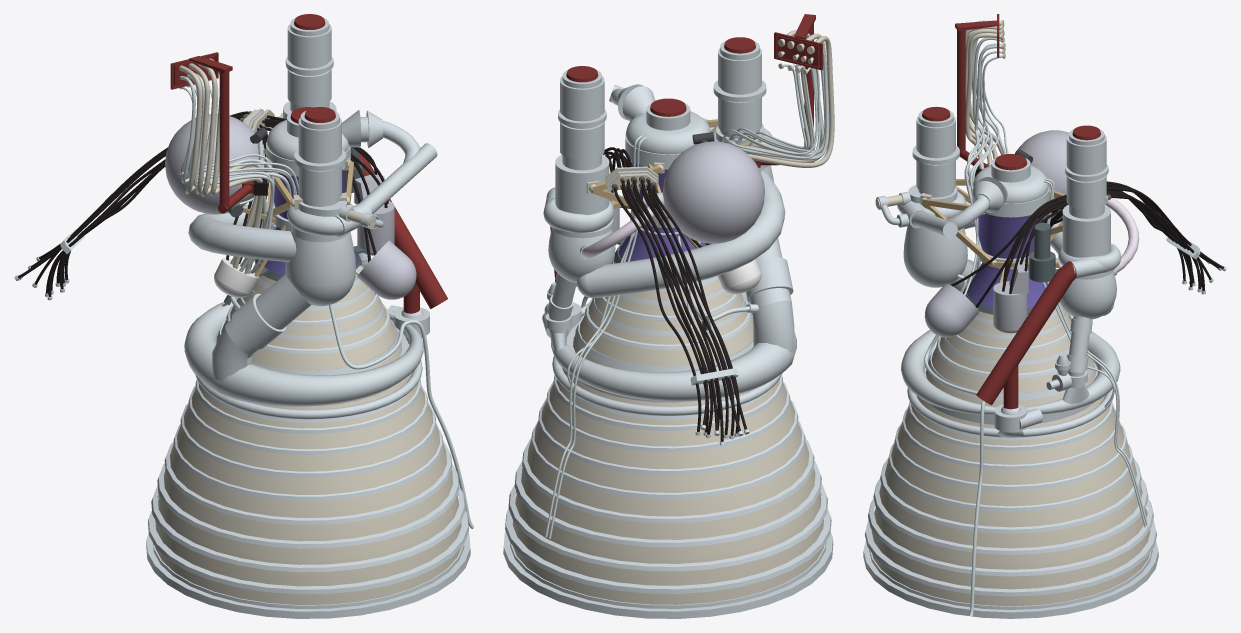
The model's file is engine_j2.glb.
3 views of the same model, side by side, from view 1: azimuth 30°, elevation 25°; view 2: azimuth 150°, elevation 25°; view 3: azimuth 270°, elevation 25° (orthographic). The views are drawn at different scales.
Parts seen in each view (by area): view 1: Cylinder.027_93, Cylinder.108_98, Torus.006_43, NurbsPath.019_9, Sphere.003_114, Cylinder.124_109, BezierCurve.001_48, Sphere.008_54, Cube.065_1, Torus.009_44, Cube.070_10, Cylinder.032_19 (+20 smaller); view 2: Cylinder.027_93, Cylinder.108_98, NurbsPath.019_9, Sphere.008_54, Torus.006_43, BezierCurve.001_48, Cylinder.093_94, Cylinder.124_109, Cylinder.069_104, Torus.009_44, Sphere.007_115, Cube.065_1 (+21 smaller); view 3: Cylinder.027_93, Cylinder.108_98, NurbsPath.019_9, Torus.006_43, Cylinder.100_96, Cylinder.124_109, Cylinder.070_25, Sphere.003_114, Cylinder.093_94, Cylinder.069_104, Cube.070_10, Sphere.008_54 (+24 smaller).
Boxes of the visible parts, x1,y1,x2,y2 form: Cylinder.027_93: (155, 265, 461, 604); Cylinder.108_98: (146, 264, 470, 618); Torus.006_43: (184, 297, 423, 406); NurbsPath.019_9: (17, 111, 388, 296); Sphere.003_114: (285, 229, 355, 306); Cylinder.124_109: (298, 107, 341, 206); BezierCurve.001_48: (188, 202, 296, 262); Sphere.008_54: (165, 114, 265, 214); Cube.065_1: (170, 52, 253, 213); Torus.009_44: (195, 344, 422, 419); Cube.070_10: (356, 240, 416, 299); Cylinder.032_19: (225, 274, 310, 354); Cylinder.027_93: (512, 259, 823, 604); Cylinder.108_98: (503, 261, 833, 618); NurbsPath.019_9: (603, 147, 747, 441); Sphere.008_54: (662, 141, 764, 243); Torus.006_43: (551, 292, 796, 401); BezierCurve.001_48: (587, 172, 785, 297); Cylinder.093_94: (625, 98, 710, 169); Cylinder.124_109: (718, 37, 761, 138); Cylinder.069_104: (555, 154, 609, 214); Torus.009_44: (552, 356, 782, 415); Sphere.007_115: (548, 229, 615, 282); Cube.065_1: (753, 14, 822, 167); Cylinder.027_93: (871, 302, 1150, 606); Cylinder.108_98: (863, 303, 1158, 618); NurbsPath.019_9: (951, 181, 1223, 308); Torus.006_43: (901, 330, 1120, 414); Cylinder.100_96: (967, 213, 1047, 308); Cylinder.124_109: (916, 106, 955, 197); Cylinder.070_25: (976, 261, 1076, 405); Sphere.003_114: (903, 224, 967, 287); Cylinder.093_94: (972, 154, 1049, 217); Cylinder.069_104: (1062, 205, 1110, 257); Cube.070_10: (924, 283, 978, 337); Sphere.008_54: (1017, 130, 1069, 220).
Size of the model in its own units: 2.63 by 4.03 by 2.75.
